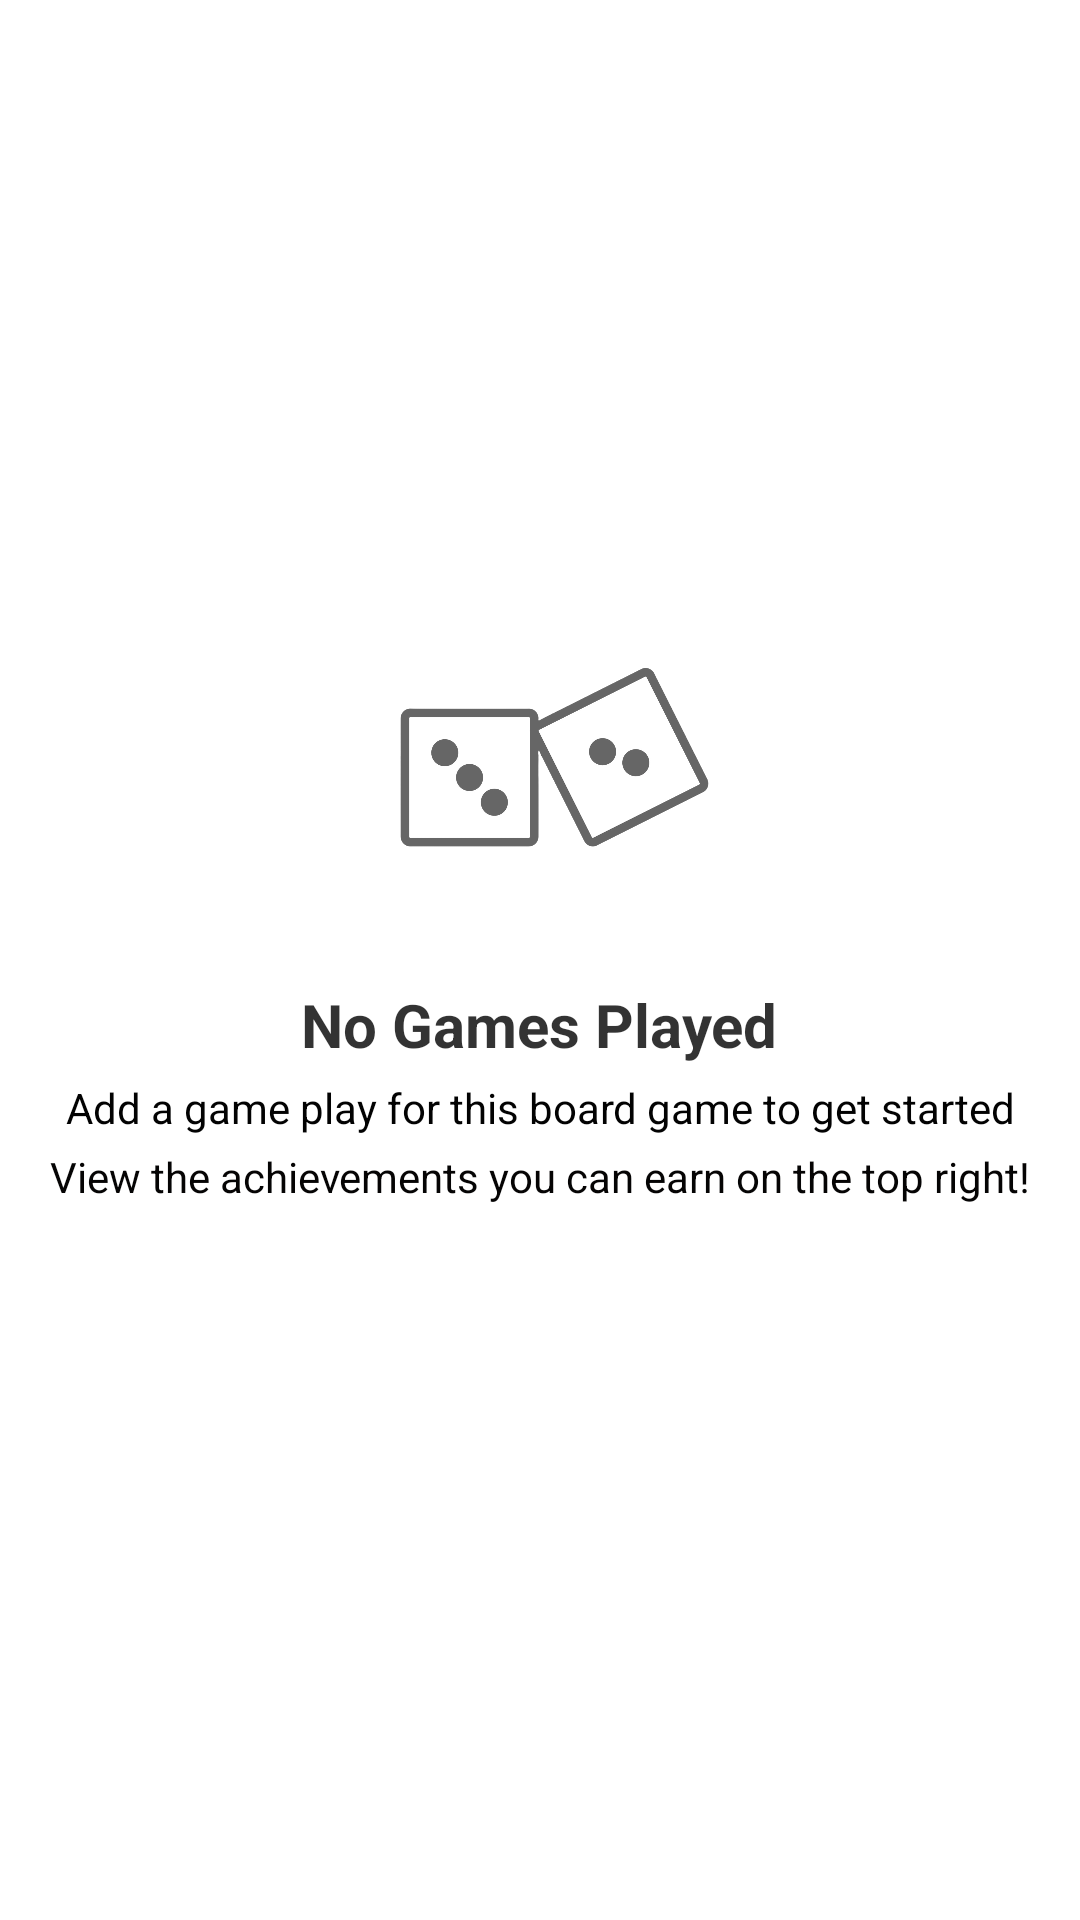

Icon bounding boxes for this 1080×1920 phone screenshot, format bbox=(x1, y1, x2, y2):
emptystate: bbox=(400, 668, 709, 847)
